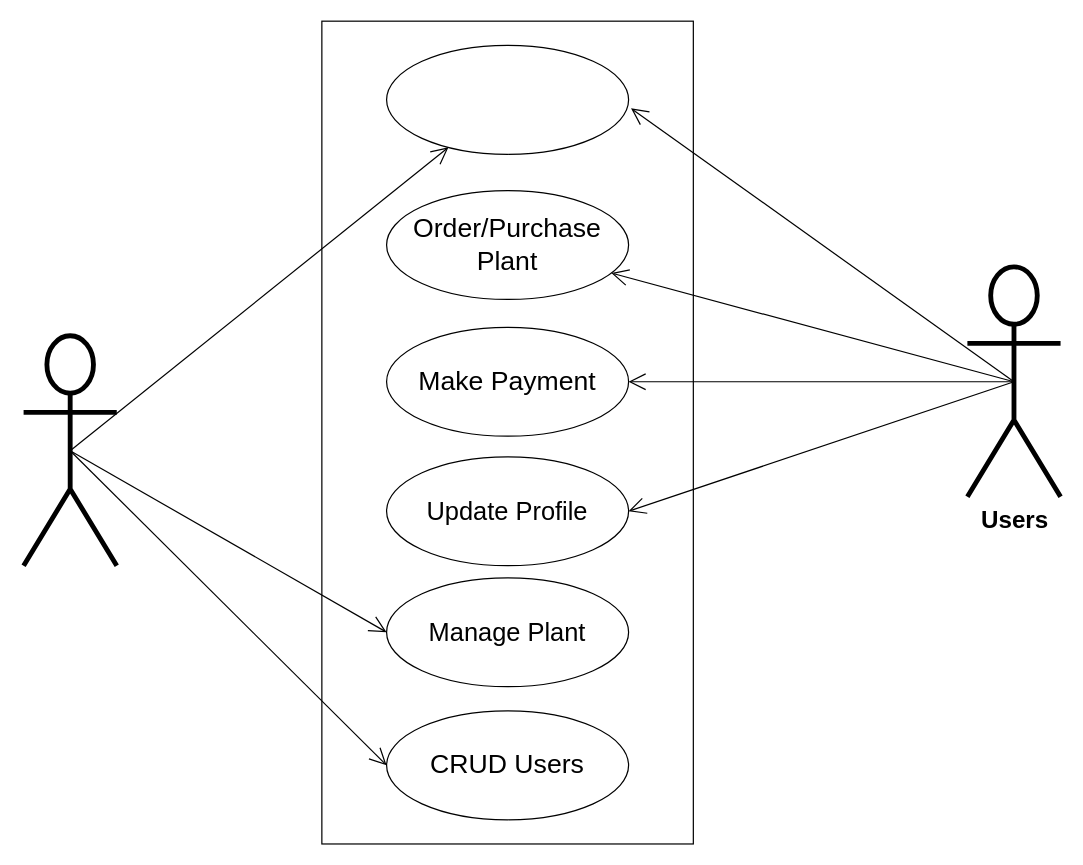
This 1083x865 diagram has some shape labels left out. The shapes that lost their labels are listed below. From the top down, each one's centre as x and y in pixels, then its label:
the point at 507,99: Login / Logout
the point at 70,450: Admin
